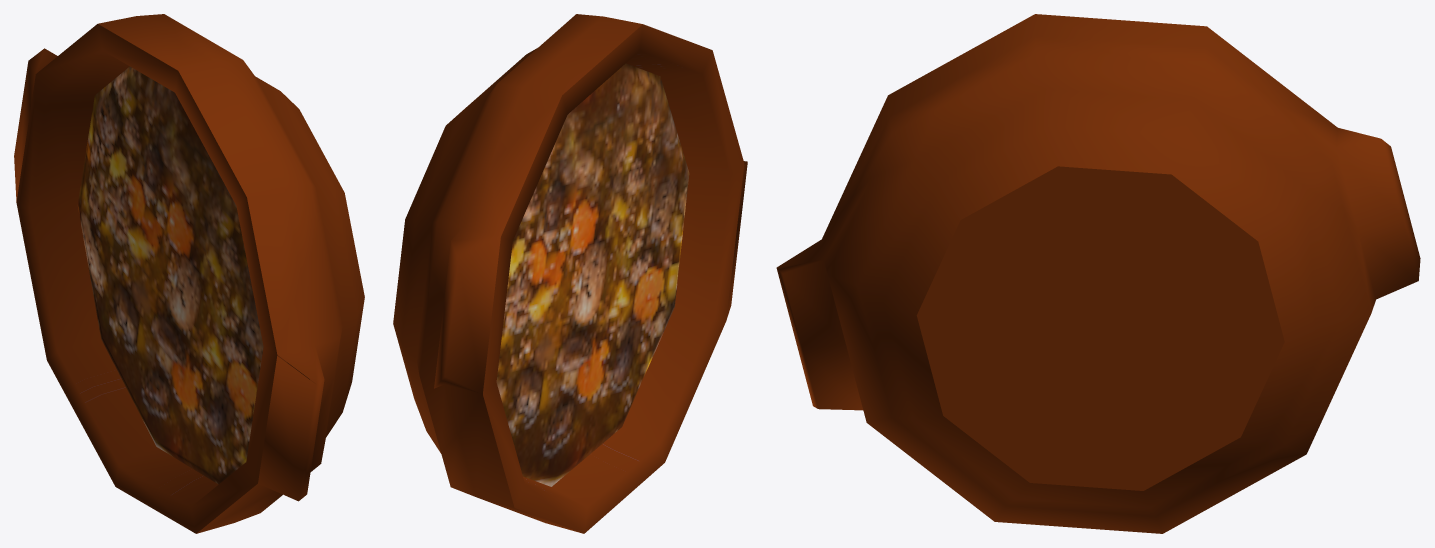
The model's file is KS_SamgyeTang.fbx.
The picture shows the model from 3 angles, left to right: view 1: azimuth 30°, elevation 25°; view 2: azimuth 150°, elevation 25°; view 3: azimuth 270°, elevation 25°; orthographic projection. The views are drawn at different scales.
Visible parts, largest first — view 1: Bowl.002; view 2: Bowl.002; view 3: Bowl.002.
Part boxes in pixels (bbox=[...]): Bowl.002: bbox=[14, 14, 364, 533]; Bowl.002: bbox=[393, 14, 747, 533]; Bowl.002: bbox=[776, 14, 1420, 533].
Bounding box in the file's own units: 0.2687 × 0.8816 × 1.05.
